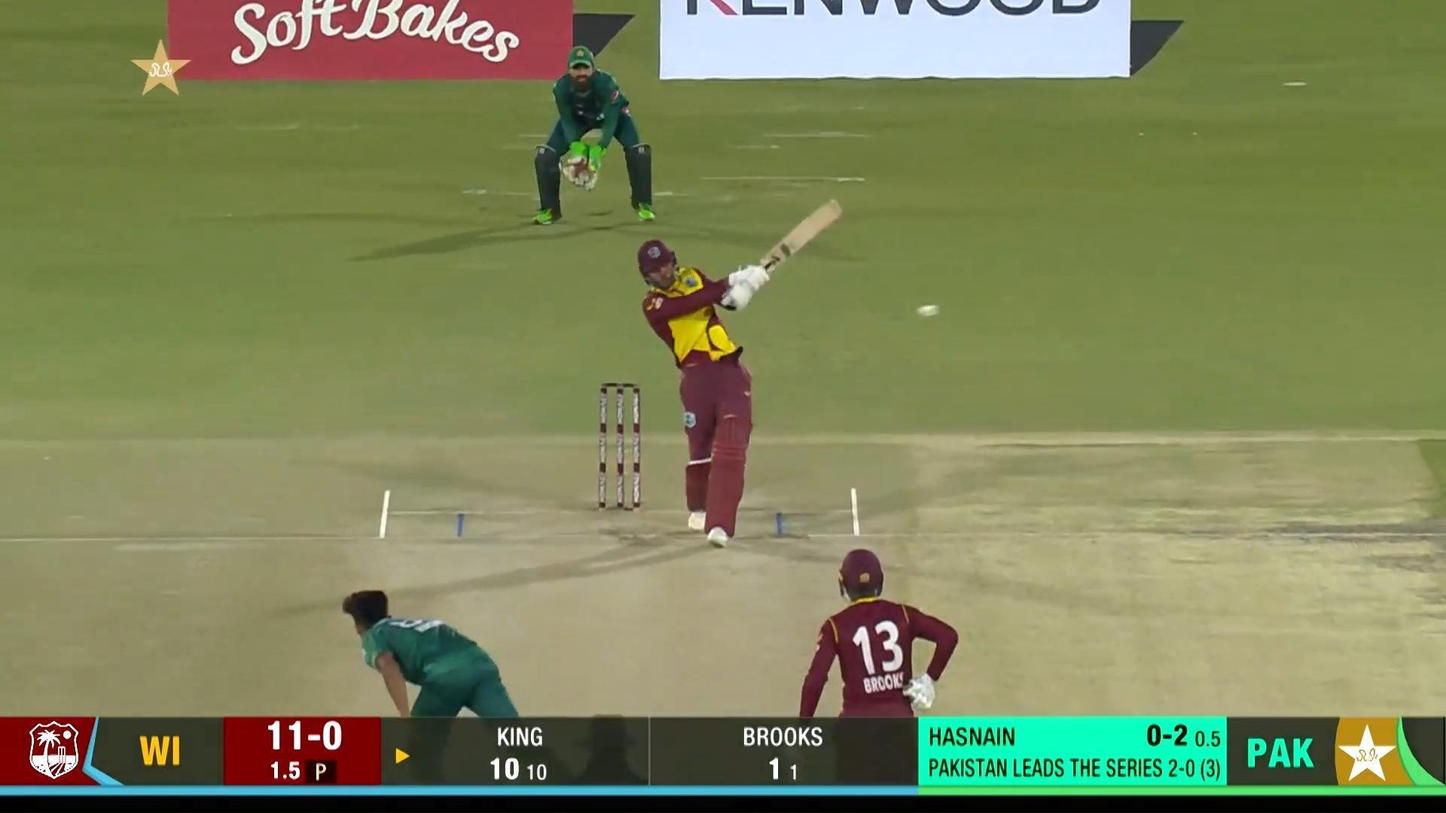BM 1: (636, 196, 845, 551)
BO: (341, 588, 521, 719)
